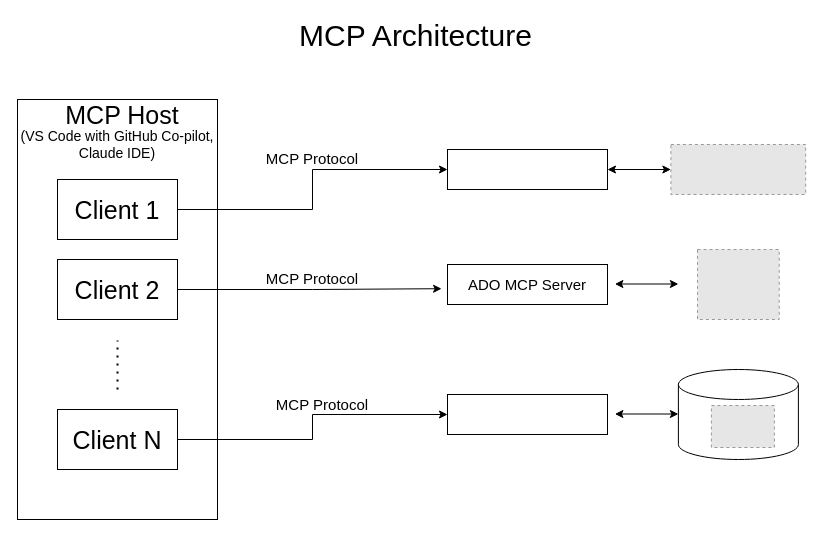
Some shapes in this 824 by 537 pixel diagram are drawn without their labels. Grey dashed boxes stand in for pictures. Here are the shapes that lost their labels. From the top down, the centre of each, then its label:
At (x=527, y=169): "GitHub MCP Server".
At (x=527, y=414): "MySQL MCP Server".
